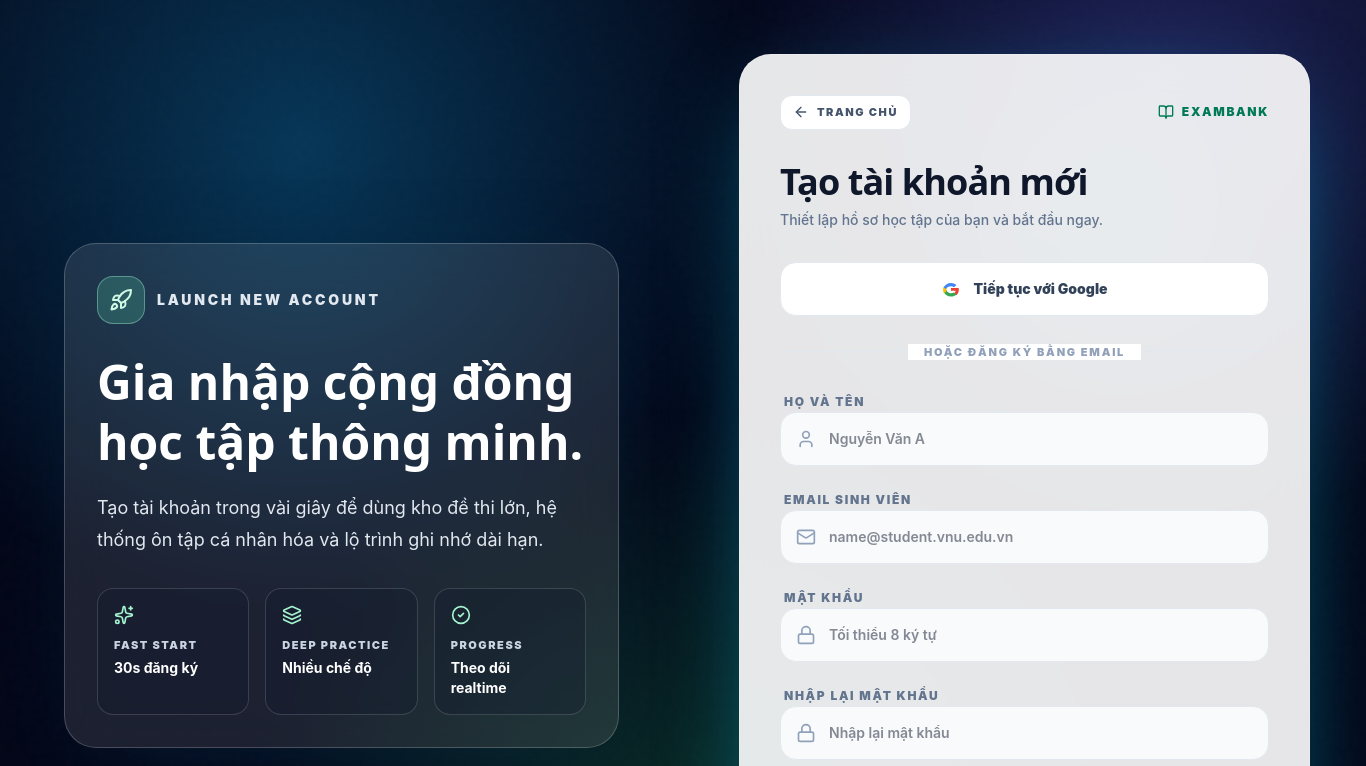
Test case: Register page › validates password minimum length (8 chars)
Type "Nguyen Van A" into the field labelled "Họ và tên".
click(1024, 439); type("Nguyen Van A")  # box top-left (780, 412), bottom-right (1269, 466)
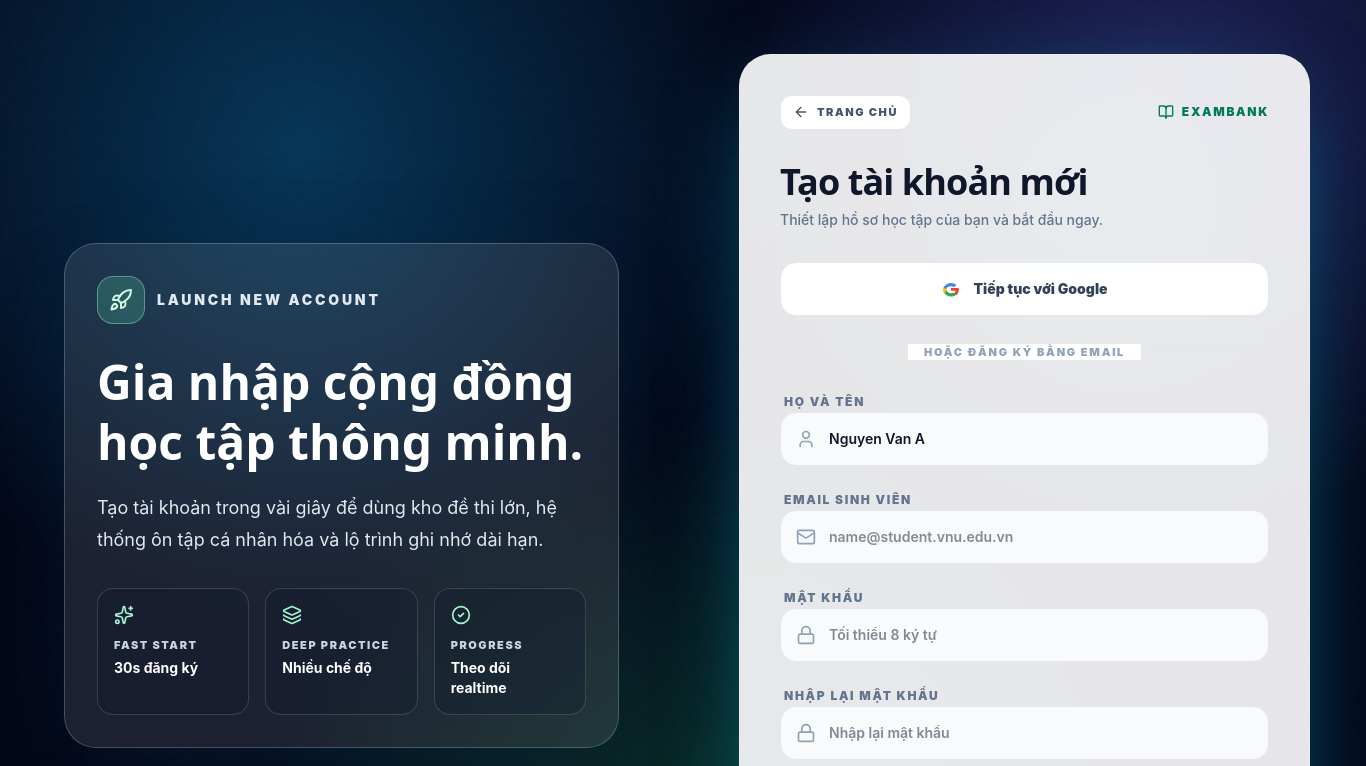
Type "a@b.com" into the field labelled "Email sinh viên".
click(1024, 537); type("a@b.com")  # box top-left (780, 510), bottom-right (1269, 564)
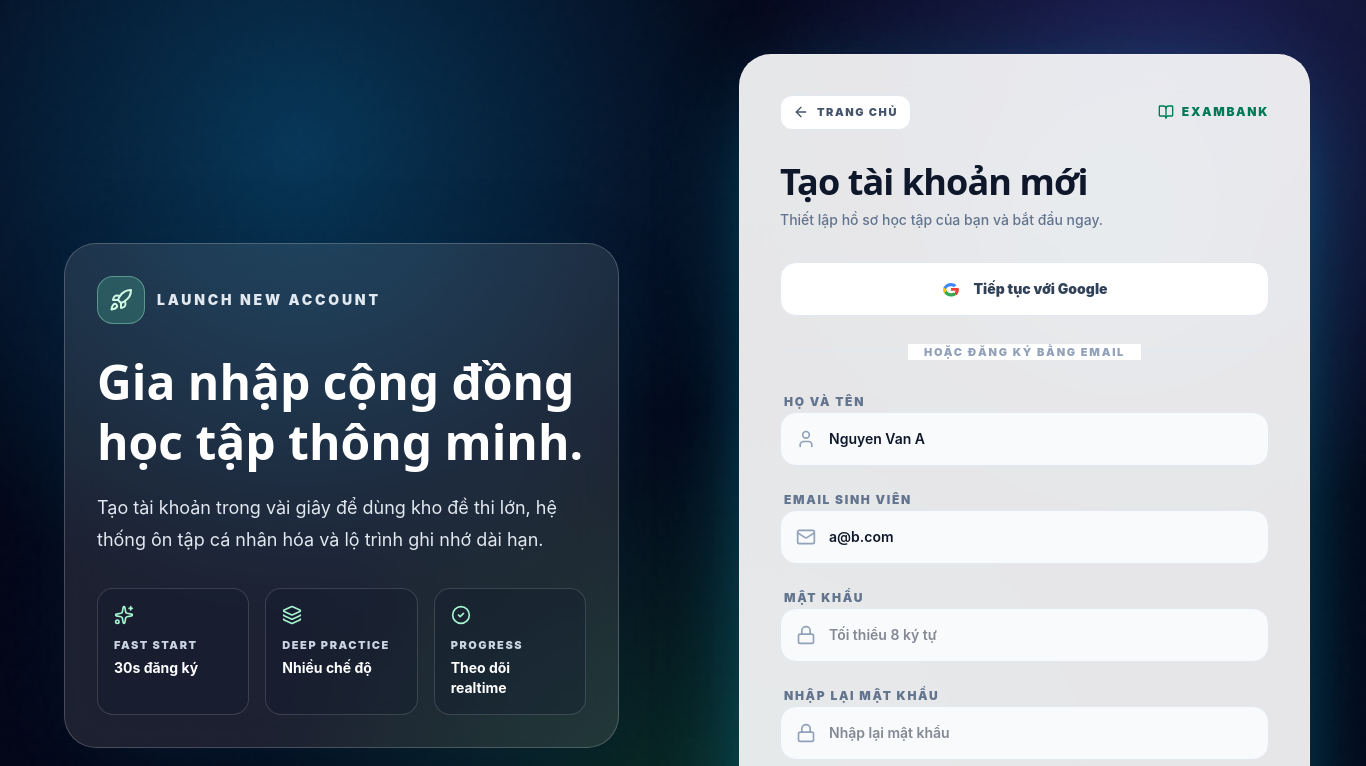
Type "Short1" into the password field labelled "Mật khẩu".
click(1024, 635); type("Short1")  # box top-left (780, 608), bottom-right (1269, 662)
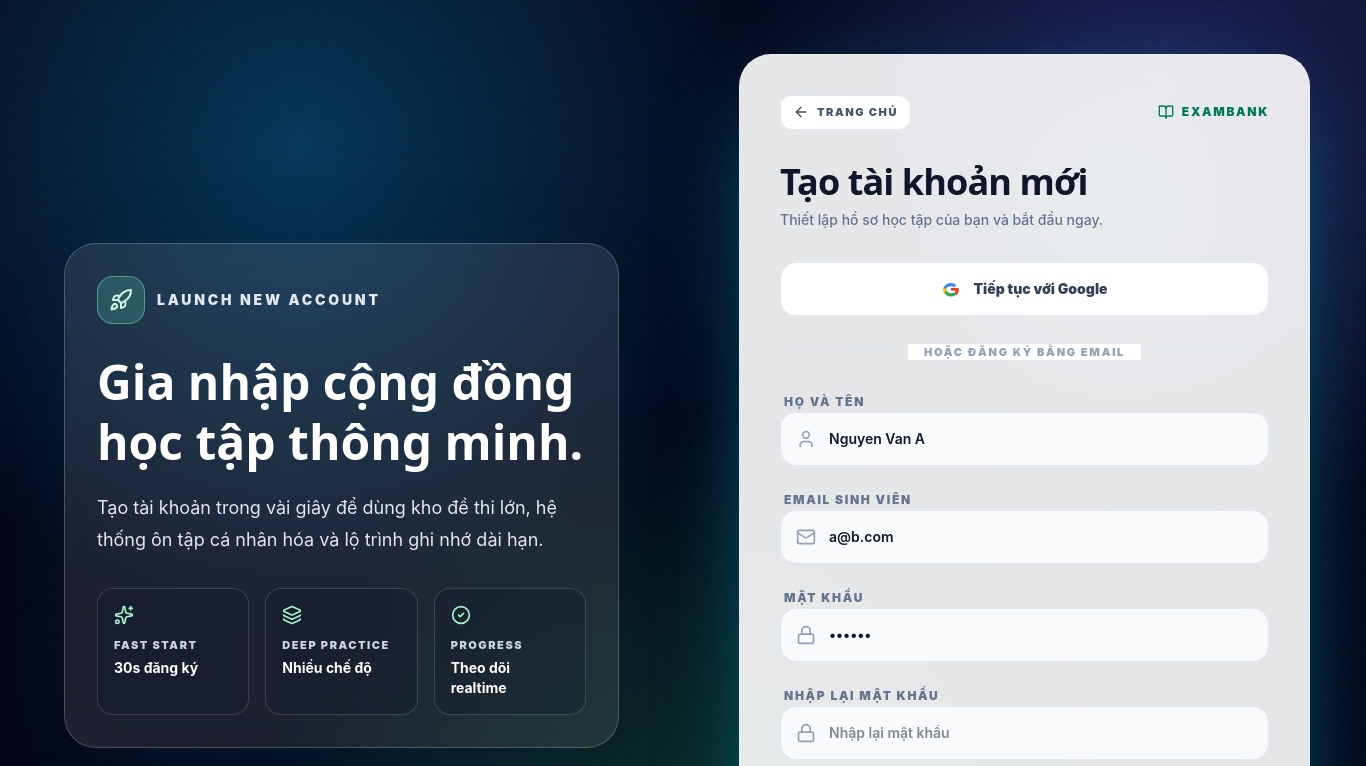
Also fill confirm password with same short value to trigger only password error
Type "Short1" into the password field labelled "Nhập lại mật khẩu".
click(1024, 733); type("Short1")  # box top-left (780, 706), bottom-right (1269, 760)
(page scrolled)
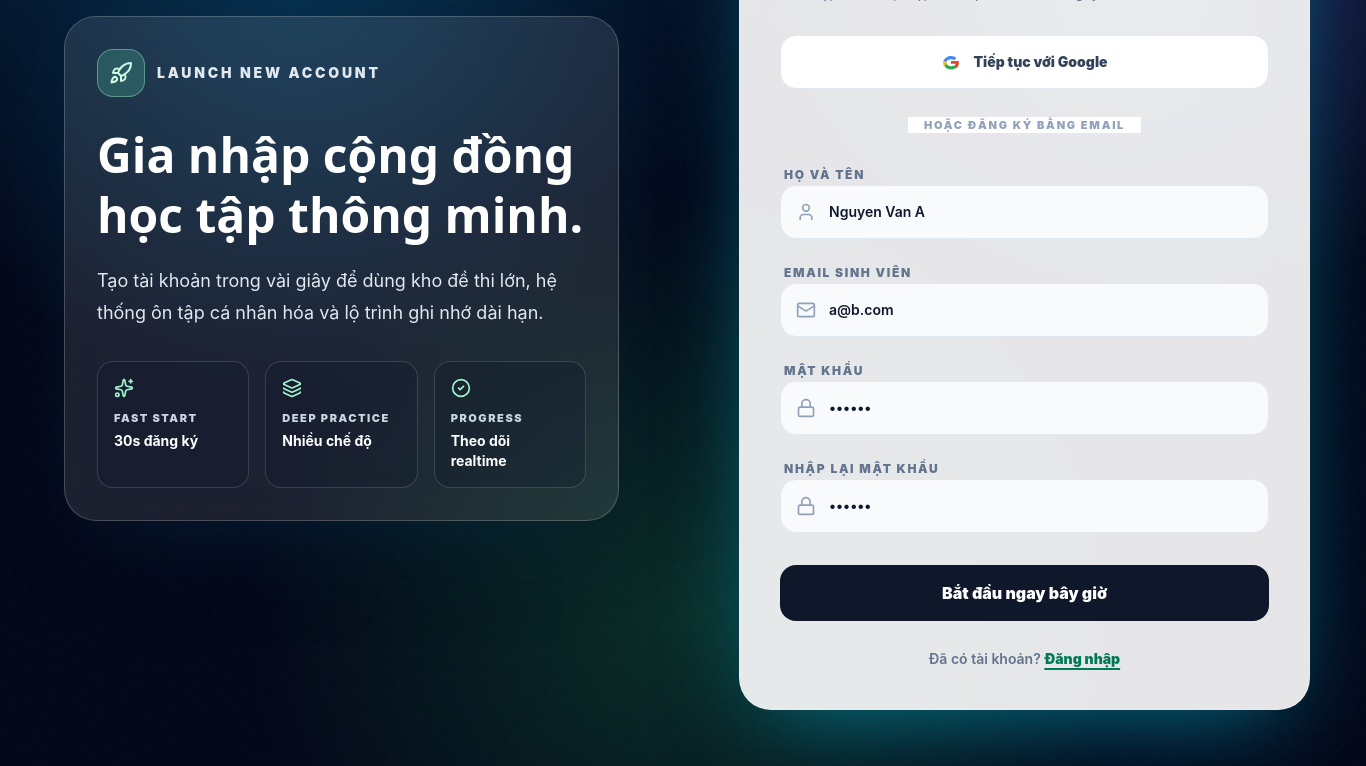
Click the button "Bắt đầu ngay bây giờ".
click(1024, 593)  # box top-left (780, 565), bottom-right (1269, 621)
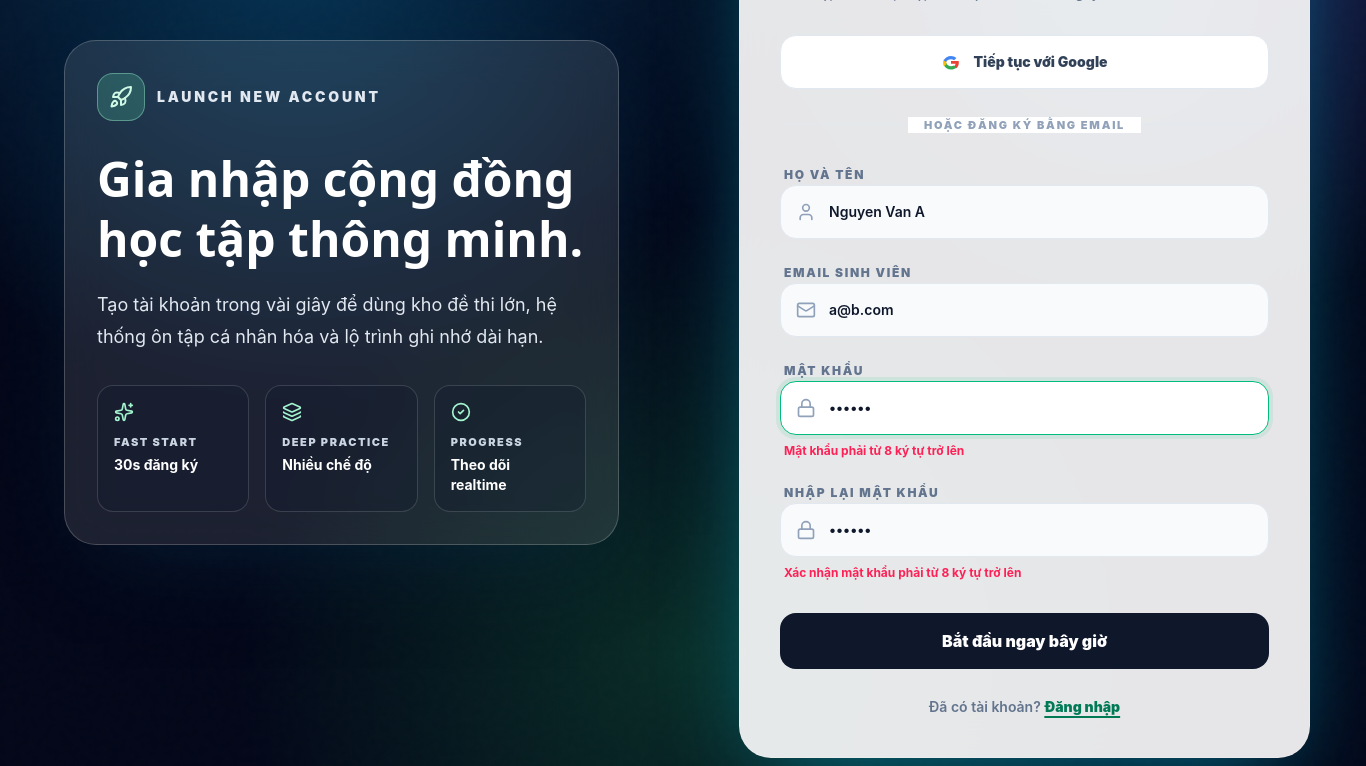
expect the text "Mật khẩu phải từ 8 ký tự trở lên" is shown: met, box top-left (784, 443), bottom-right (964, 458)
